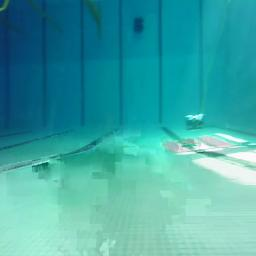front: (186, 113, 204, 130)
